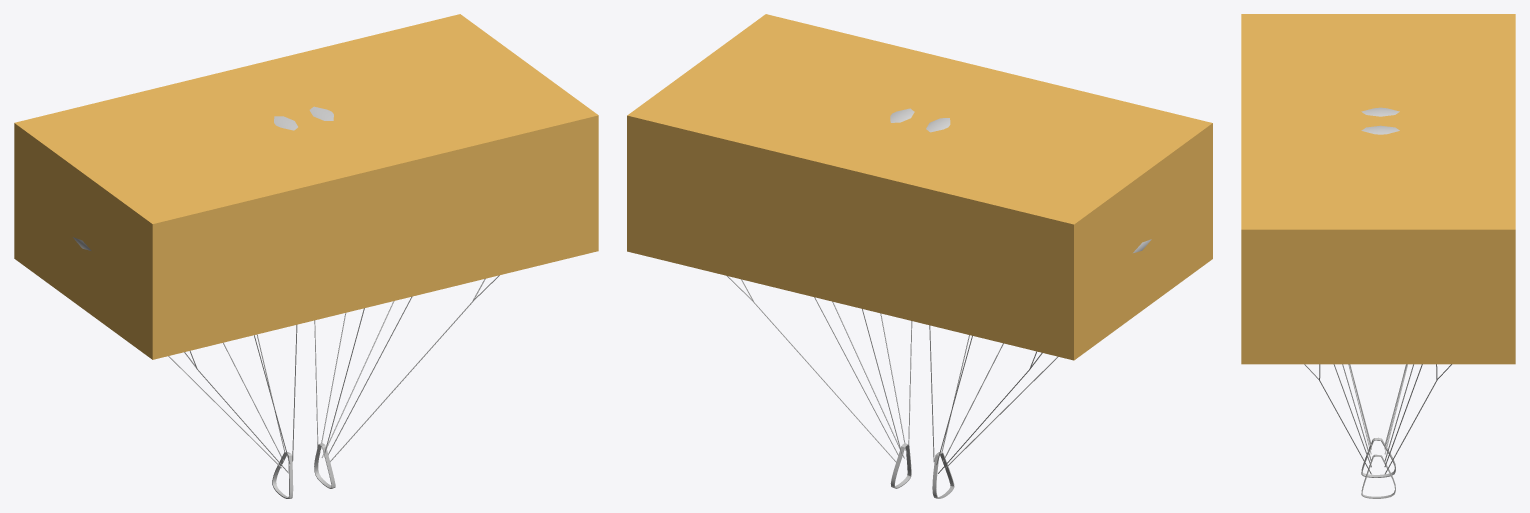
The model's file is ParachuteMK3.fbx.
3 views of the same model, side by side, from view 1: azimuth 30°, elevation 25°; view 2: azimuth 150°, elevation 25°; view 3: azimuth 270°, elevation 25° (orthographic).
Visible parts, largest first — view 1: UTM_Top, Line; view 2: UTM_Top, Line; view 3: UTM_Top, Line, Chute.
Part boxes in pixels (left/top/right/bottom): UTM_Top: left=14, top=14, right=598, bottom=359; Line: left=168, top=275, right=499, bottom=498; UTM_Top: left=627, top=14, right=1212, bottom=360; Line: left=727, top=276, right=1058, bottom=498; UTM_Top: left=1241, top=14, right=1515, bottom=364; Line: left=1304, top=364, right=1451, bottom=498; Chute: left=1361, top=107, right=1399, bottom=134.
Size of what is drawn, in the model's own units: 495 by 393 by 265.
